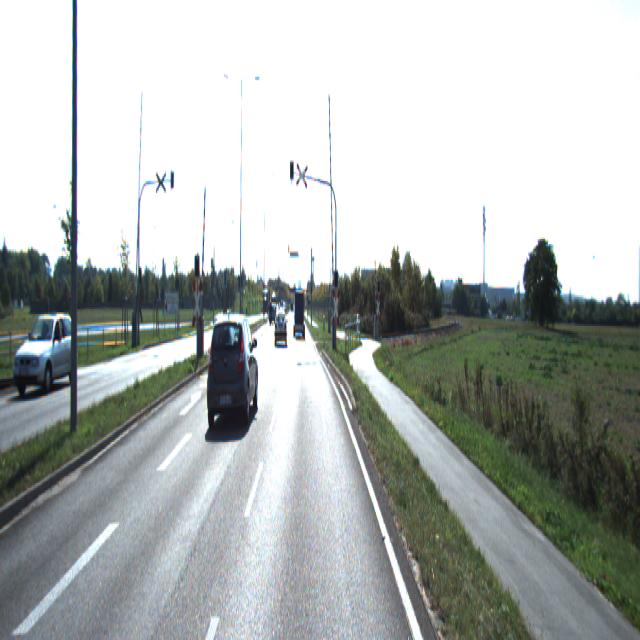Car: (206, 306, 259, 433), (11, 310, 78, 396), (210, 312, 240, 374), (274, 312, 288, 345)
DontCare: (268, 290, 287, 325)
Van: (294, 290, 305, 337)
